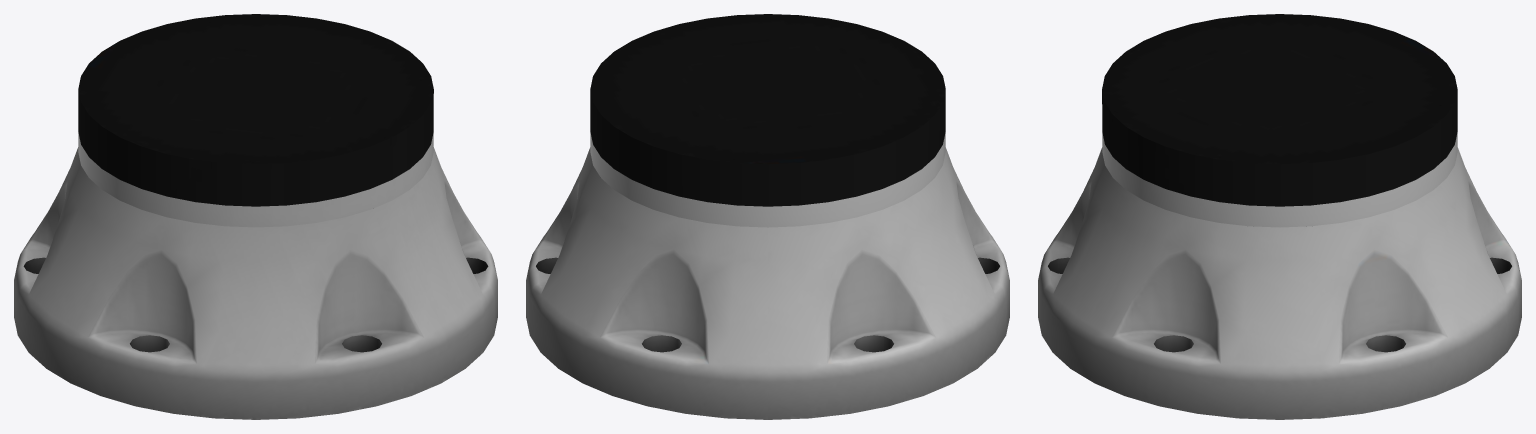
3 views of the same model, side by side, from view 1: azimuth 30°, elevation 25°; view 2: azimuth 150°, elevation 25°; view 3: azimuth 270°, elevation 25° (orthographic).
Parts seen in each view (by area): view 1: base_010; view 2: base_010; view 3: base_010.
Boxes of the visible parts, box(x1,y1,x2,y2) form: base_010: box(14, 14, 497, 419); base_010: box(526, 14, 1009, 419); base_010: box(1038, 14, 1521, 419).
Bounding box in the file's own units: 0.204 × 0.204 × 0.1064.
Materials: 3 (3 with a texture image).
